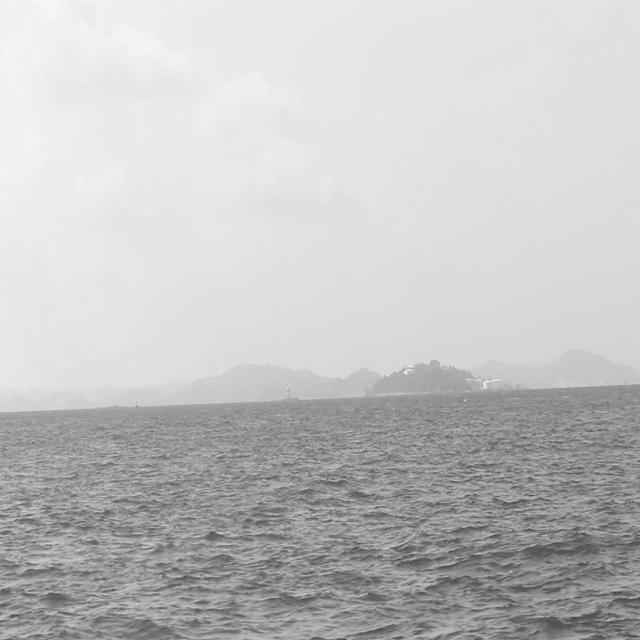boat: (277, 380, 297, 405)
